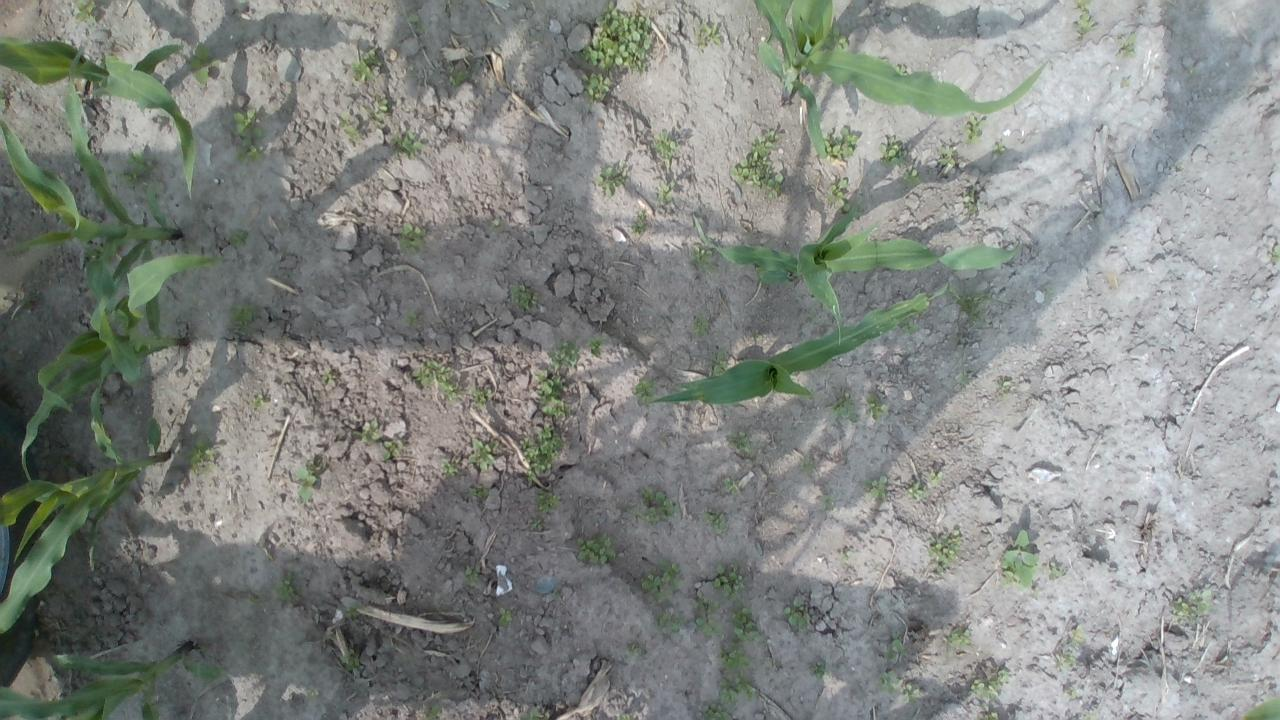Maize: (0, 45, 181, 390), (752, 0, 1046, 162), (686, 204, 1022, 343), (14, 250, 212, 484), (644, 279, 948, 409), (0, 413, 170, 643), (0, 30, 203, 198), (0, 641, 215, 720), (1237, 695, 1280, 720)
Weeds: (574, 0, 654, 76), (730, 129, 784, 201), (519, 423, 564, 482), (998, 530, 1040, 588), (412, 360, 464, 402), (532, 370, 572, 420), (641, 558, 683, 602), (112, 148, 155, 190), (232, 106, 262, 166), (948, 286, 994, 324), (635, 486, 678, 526), (927, 528, 963, 574), (692, 590, 724, 638), (187, 42, 221, 86), (574, 533, 618, 567), (718, 674, 760, 708), (819, 125, 858, 161), (970, 666, 1010, 700), (594, 160, 628, 199), (713, 563, 746, 602), (294, 458, 322, 502), (184, 437, 215, 476), (1172, 589, 1212, 618), (824, 389, 860, 421), (651, 129, 680, 167), (548, 336, 580, 370), (731, 607, 762, 642), (580, 72, 612, 105), (688, 244, 720, 276), (350, 48, 380, 82), (716, 642, 750, 672), (468, 436, 496, 472), (508, 284, 540, 314), (391, 130, 424, 159), (398, 222, 426, 256), (781, 598, 810, 630), (227, 302, 259, 330), (827, 176, 850, 213), (360, 95, 388, 125), (1072, 0, 1096, 34), (878, 136, 906, 165), (726, 428, 755, 456), (654, 611, 689, 634), (821, 22, 848, 51), (694, 24, 724, 50), (336, 111, 361, 142), (863, 393, 889, 421), (873, 669, 901, 694), (964, 113, 986, 144), (946, 626, 972, 652), (862, 476, 889, 501), (632, 378, 656, 406), (272, 572, 296, 600), (534, 488, 560, 513), (73, 0, 99, 25), (702, 508, 728, 532), (352, 420, 380, 442), (900, 164, 924, 188), (690, 312, 710, 340), (884, 632, 904, 660), (708, 348, 727, 376), (448, 64, 470, 88), (700, 703, 731, 720), (469, 386, 492, 408), (960, 187, 980, 212), (340, 647, 360, 672), (226, 228, 250, 248), (936, 145, 956, 167), (630, 210, 646, 237), (462, 566, 482, 587), (906, 480, 927, 500), (588, 336, 606, 359), (318, 365, 336, 388), (901, 684, 921, 704), (382, 440, 403, 459), (1118, 34, 1136, 56), (810, 660, 829, 679), (656, 182, 674, 202), (1055, 652, 1076, 669), (900, 316, 919, 334), (520, 706, 542, 720), (426, 701, 442, 720), (978, 705, 998, 720), (498, 606, 512, 627), (441, 460, 458, 477), (722, 477, 739, 494), (820, 494, 836, 512), (469, 484, 489, 498), (1048, 560, 1062, 580), (991, 140, 1007, 157), (928, 468, 944, 485), (800, 458, 816, 474), (624, 642, 640, 658), (1268, 243, 1280, 263), (1070, 628, 1084, 644), (404, 309, 417, 326), (892, 63, 908, 76), (0, 82, 6, 116), (251, 394, 265, 408), (346, 604, 360, 618), (802, 312, 818, 323), (994, 378, 1011, 388), (958, 371, 969, 386), (839, 551, 852, 563), (1065, 686, 1078, 698), (408, 12, 420, 25), (490, 219, 500, 233), (1084, 711, 1099, 720), (530, 519, 542, 530), (552, 588, 562, 600), (616, 712, 630, 720), (1045, 284, 1054, 296)
